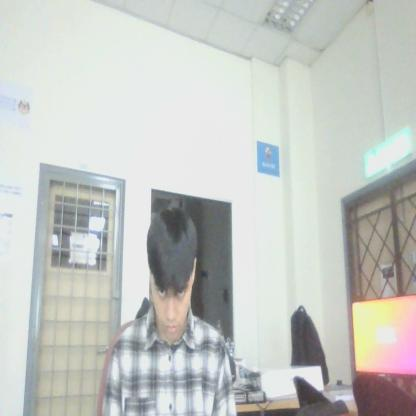Open-Eyes: (151, 276, 189, 306)
